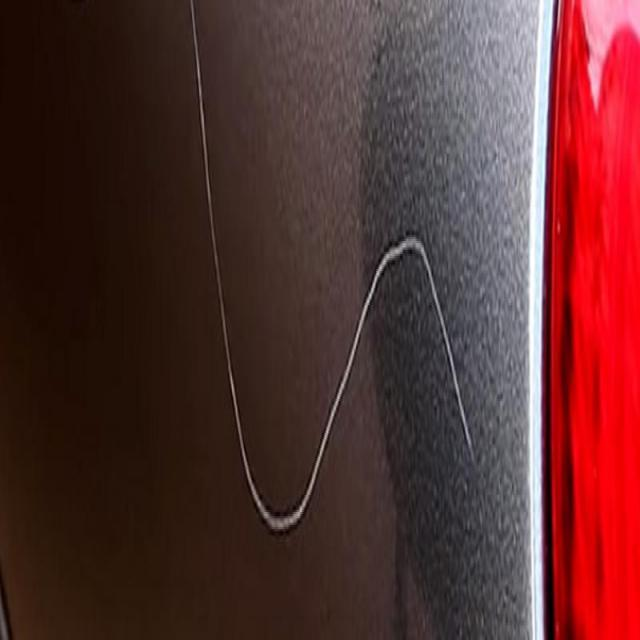scratch: (172, 0, 498, 580)
